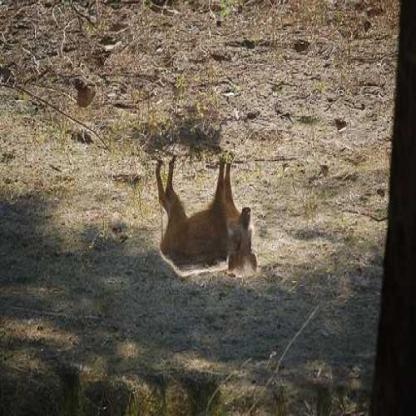boar: (148, 145, 289, 304)
